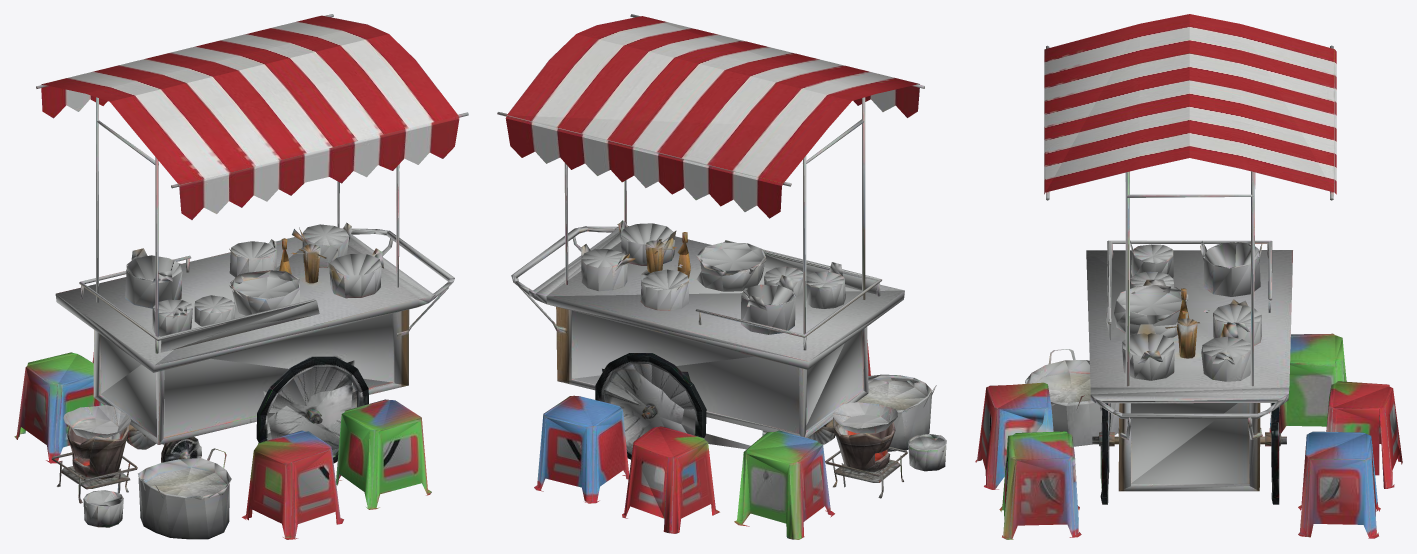
Rendered from food_stall.glb.
3 renders of one model, left to right at view 1: azimuth 30°, elevation 25°; view 2: azimuth 150°, elevation 25°; view 3: azimuth 270°, elevation 25°, orthographic. The views are drawn at different scales.
Visible parts, largest first — view 1: Prop_food_stall; view 2: Prop_food_stall; view 3: Prop_food_stall.
Boxes of the visible parts, <box> form: Prop_food_stall: <box>14,14,468,539</box>; Prop_food_stall: <box>497,14,946,539</box>; Prop_food_stall: <box>975,14,1402,539</box>.
Size of the model in its own units: 2.01 by 1.99 by 1.9.
1 material, 1 textured.
